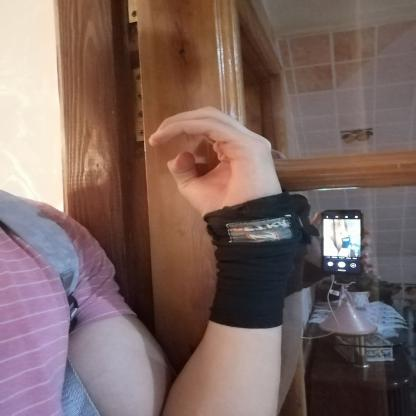JEEM: (134, 96, 298, 228)
